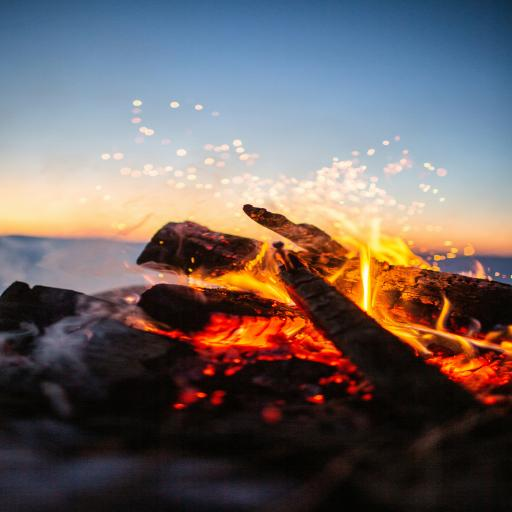campfire: (7, 63, 512, 438)
